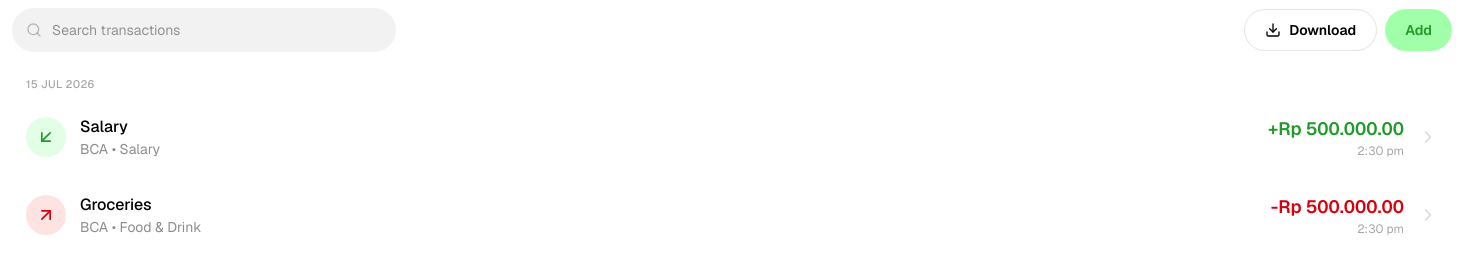
Test: TransactionsView — search filtering › shows the search keyword in the no-results message
Type "xyz" into the field with placeholder "Search transactions" at (204, 30), box [12, 8, 396, 52]
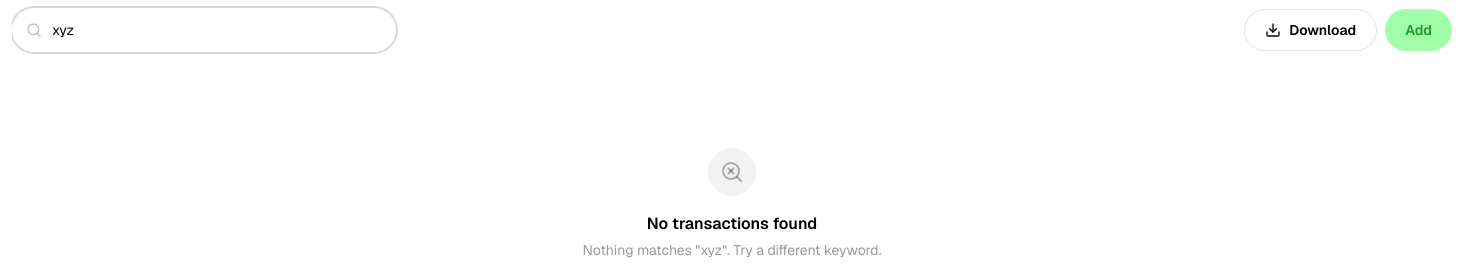
expect the text "Nothing matches \"xyz\". Try a different keyword." is shown: met, box [582, 240, 882, 260]
